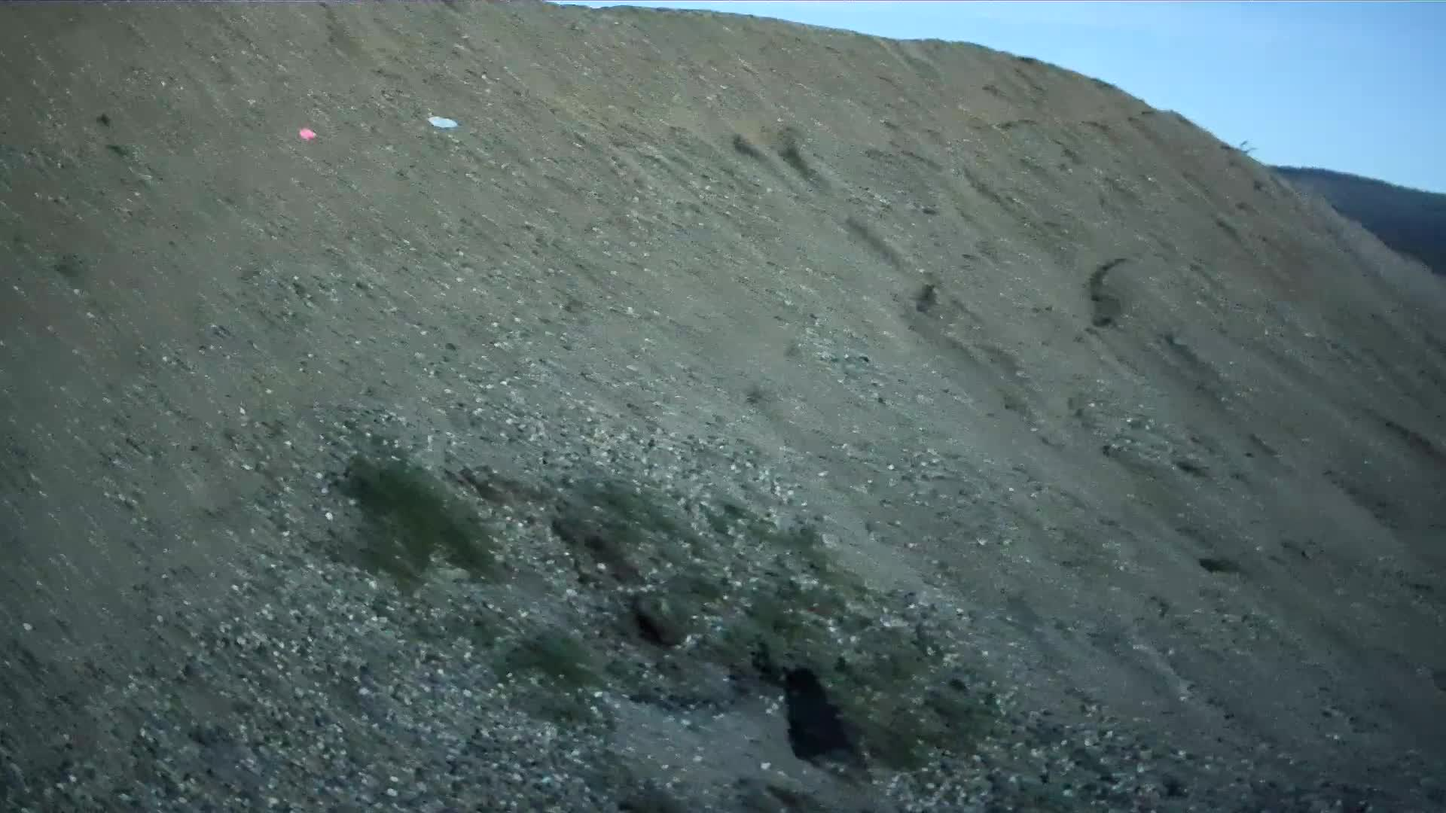Target: (427, 115, 457, 129)
